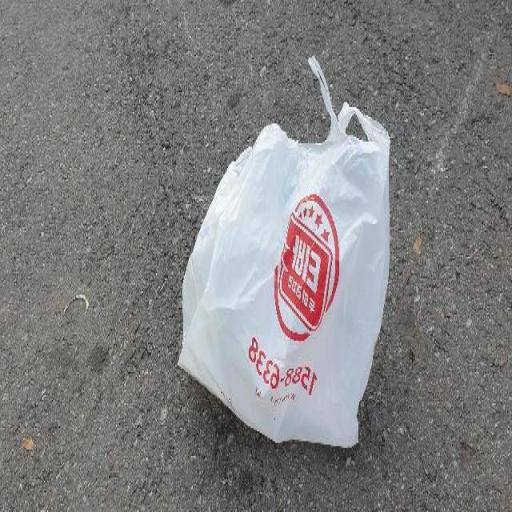plastic-bag: (174, 57, 392, 451)
